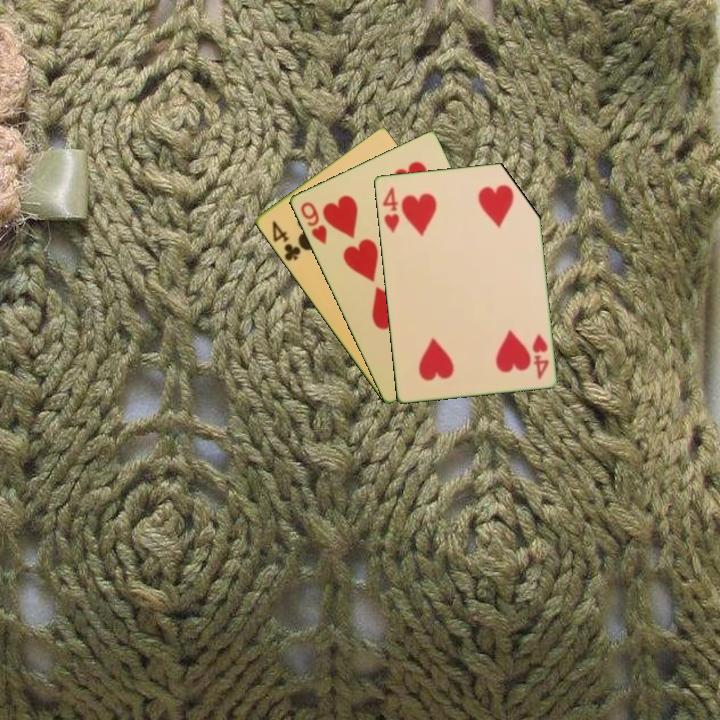4c: (268, 217, 303, 264)
4h: (378, 183, 402, 235), (528, 330, 551, 382)
9h: (296, 198, 330, 247)
